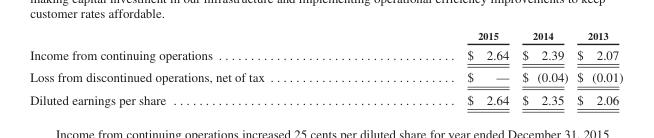table: (29, 29, 622, 106)
table column: (29, 29, 365, 106), (365, 29, 514, 106), (514, 29, 571, 106), (571, 29, 622, 106)
table column header: (29, 29, 622, 44)
table row: (29, 65, 622, 88), (29, 44, 622, 65), (29, 88, 622, 106), (29, 29, 622, 44)
